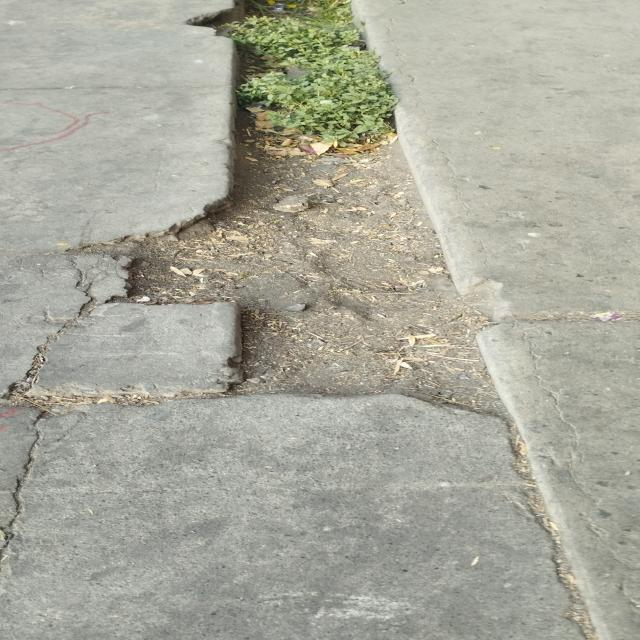hole: (104, 0, 520, 411)
